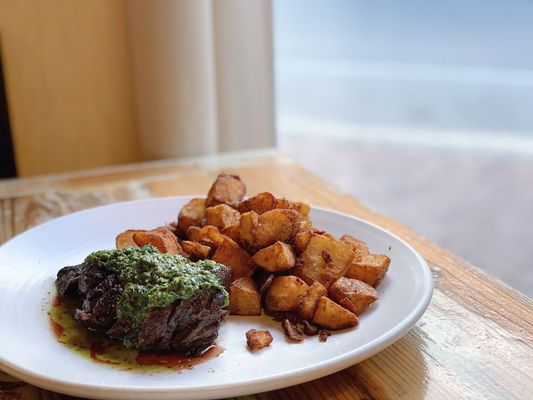curry: (49, 245, 231, 361)
